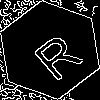R: (25, 25, 85, 83)
